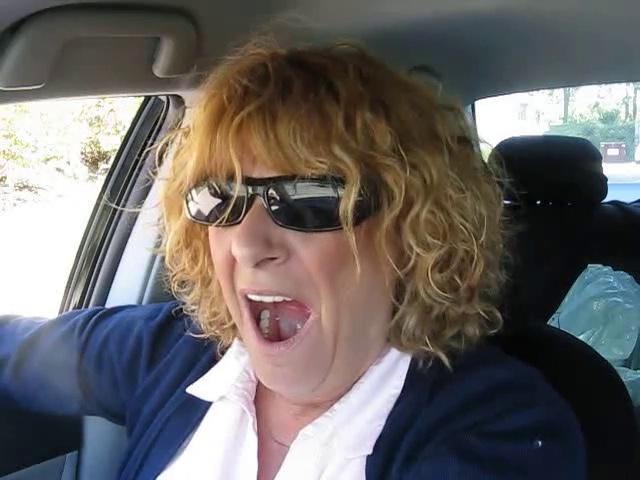yawn: (224, 279, 330, 357)
